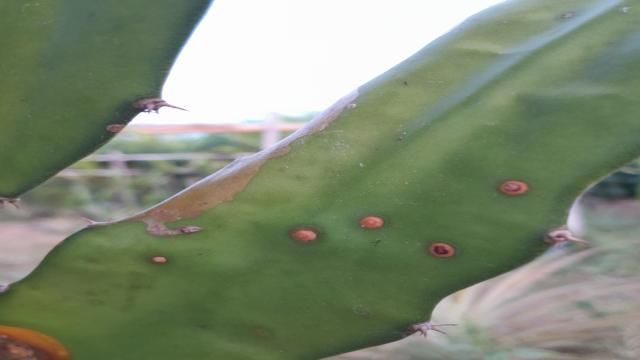stemcanker: (497, 176, 531, 199), (289, 225, 323, 246), (428, 239, 458, 261), (357, 212, 386, 232), (148, 252, 170, 267)
